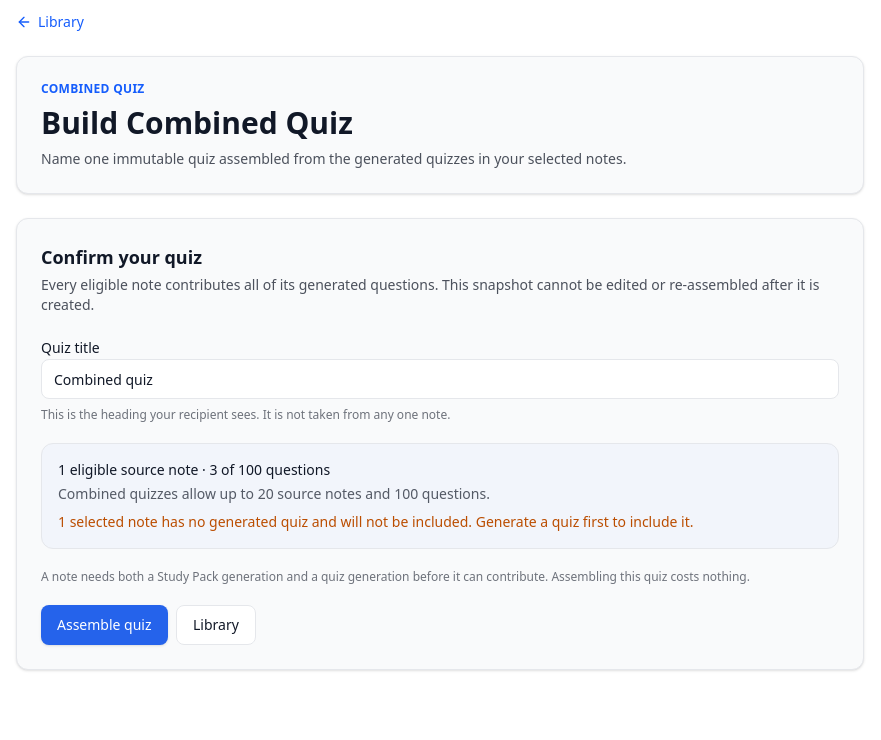
it: CombinedQuizBuilderPage › preserves the selection and entered title when the server rejects a changed source quiz
Expected: the heading "Confirm your quiz" is shown, [41,245,202,269]
Replace the text in the field labelled "Quiz title" with "Still here" at x=440, y=379, box [41,359,839,399]
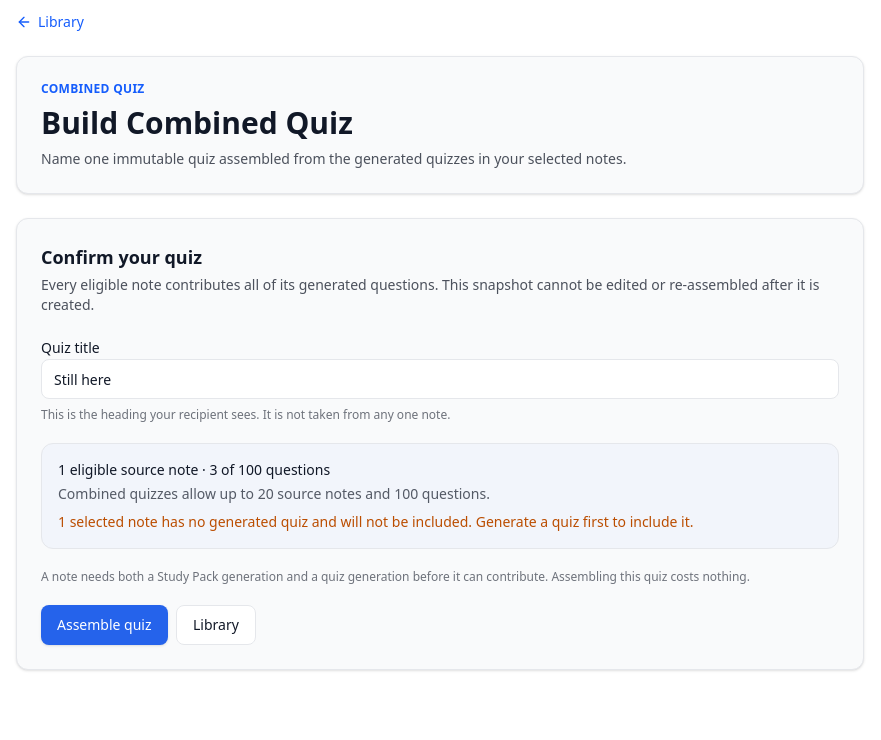
Click the button "Assemble quiz" at x=104, y=625, box [41,605,168,645]
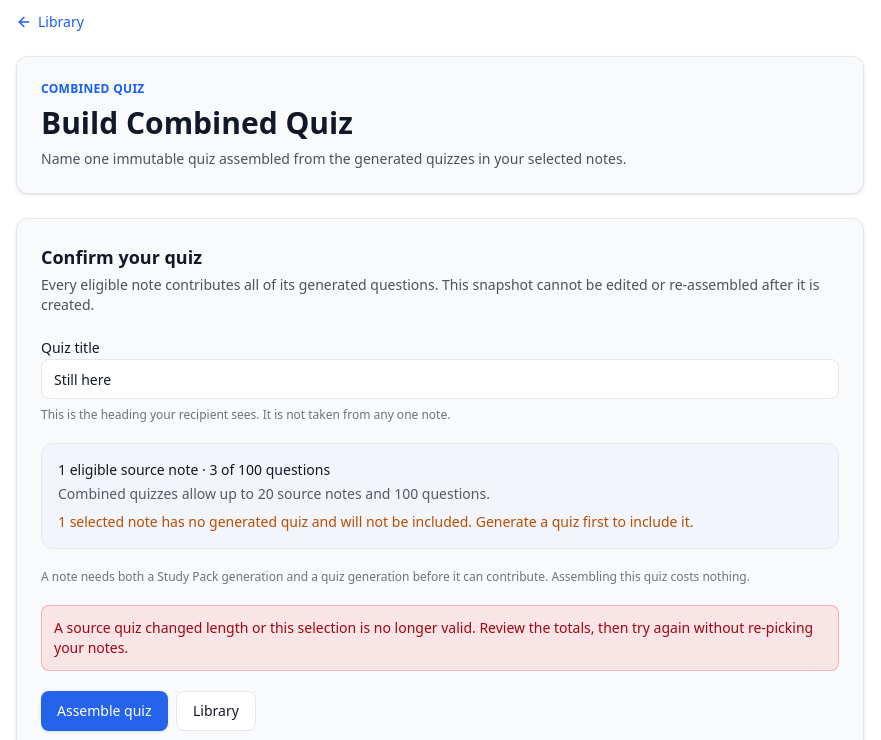
Expected: the text "1 eligible source note · 3 of 100 questions" is shown, [58,460,330,479]
Result: the message shows "source quiz changed length" at [54,618,813,657]
